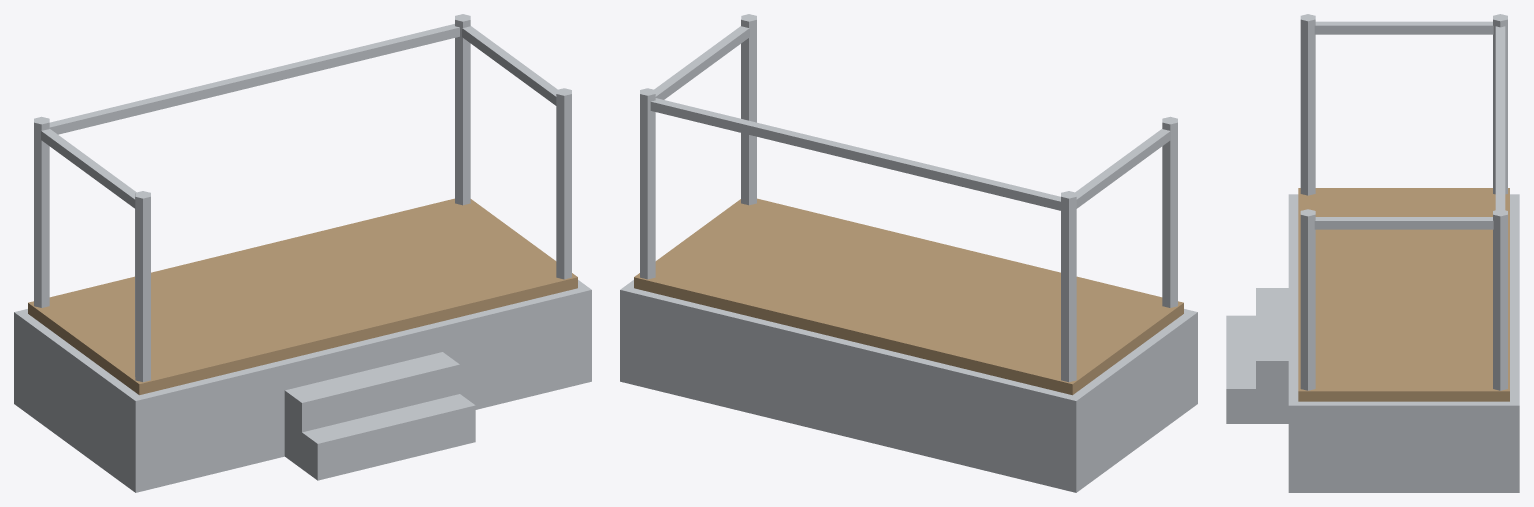
Rendered from racecourse-and-parade-ring-stalls-handlers-platform-6ebc4ae4__38607.glb.
The picture shows the model from 3 angles, left to right: view 1: azimuth 30°, elevation 25°; view 2: azimuth 150°, elevation 25°; view 3: azimuth 270°, elevation 25°; orthographic projection. The views are drawn at different scales.
Parts seen in each view (by area): view 1: stalls-handlers-platform; view 2: stalls-handlers-platform; view 3: stalls-handlers-platform.
Part boxes in pixels (x1,y1,x2,y2): stalls-handlers-platform: [14, 14, 591, 492]; stalls-handlers-platform: [620, 14, 1197, 492]; stalls-handlers-platform: [1226, 14, 1519, 492].
Size of the model in its own units: 2.6 by 1.56 by 1.52.
